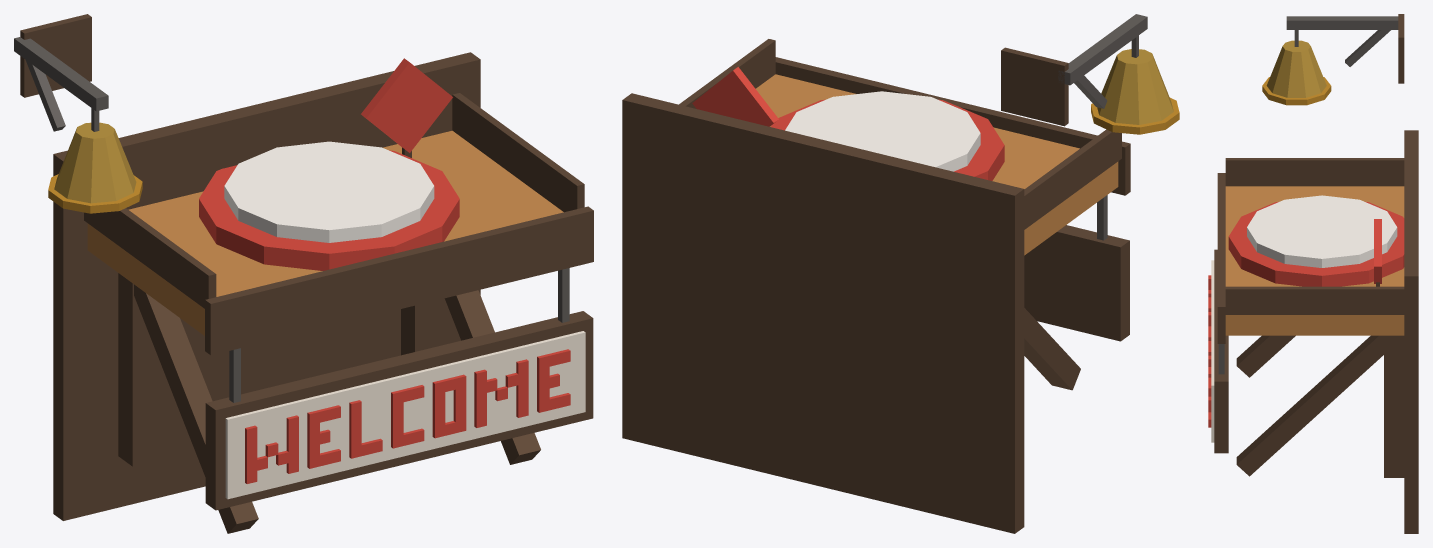
File: CatCafe_Furniture_WallPerch_Greeter.glb
3 views of the same model, side by side, from view 1: azimuth 30°, elevation 25°; view 2: azimuth 150°, elevation 25°; view 3: azimuth 270°, elevation 25° (orthographic). The views are drawn at different scales.
Parts seen in each view (by area): view 1: CatCafe_Furniture_WallPerch_Greeter, CatCafe_Furniture_WallPerch_Greeter_Bell; view 2: CatCafe_Furniture_WallPerch_Greeter, CatCafe_Furniture_WallPerch_Greeter_Bell; view 3: CatCafe_Furniture_WallPerch_Greeter, CatCafe_Furniture_WallPerch_Greeter_Bell.
Part boxes in pixels (left/top/right/bottom): CatCafe_Furniture_WallPerch_Greeter: left=14, top=14, right=593, bottom=533; CatCafe_Furniture_WallPerch_Greeter_Bell: left=48, top=108, right=142, bottom=213; CatCafe_Furniture_WallPerch_Greeter: left=622, top=14, right=1147, bottom=533; CatCafe_Furniture_WallPerch_Greeter_Bell: left=1091, top=35, right=1179, bottom=134; CatCafe_Furniture_WallPerch_Greeter: left=1208, top=14, right=1418, bottom=533; CatCafe_Furniture_WallPerch_Greeter_Bell: left=1262, top=30, right=1331, bottom=105.
Size of the model in its own units: 4.07 by 3.9 by 2.07.
Materials: 1 (1 with a texture image).
